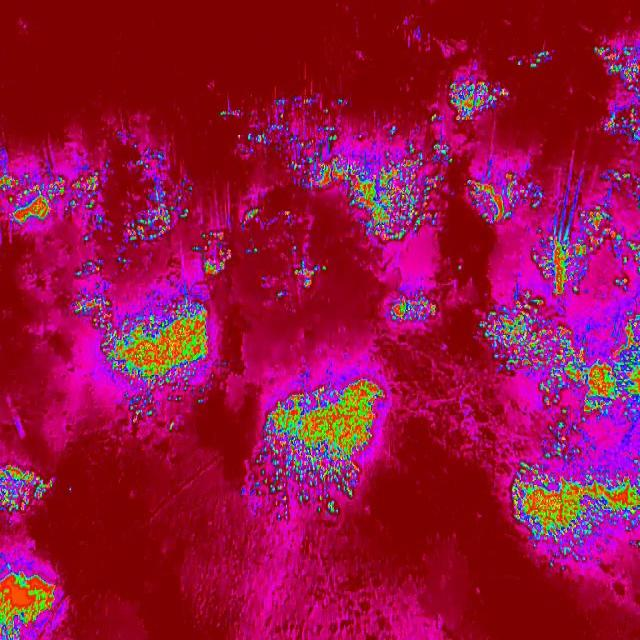fire: (235, 93, 450, 186), (245, 380, 392, 515), (66, 256, 214, 382), (509, 458, 640, 564), (478, 291, 640, 375), (114, 130, 198, 251), (526, 204, 640, 291), (0, 154, 114, 233), (534, 375, 640, 457), (0, 554, 66, 640), (340, 186, 434, 244), (464, 160, 550, 222), (595, 42, 640, 152), (442, 70, 522, 129), (127, 381, 200, 429), (0, 464, 53, 518), (388, 284, 435, 325), (194, 227, 231, 271), (599, 166, 640, 202)
